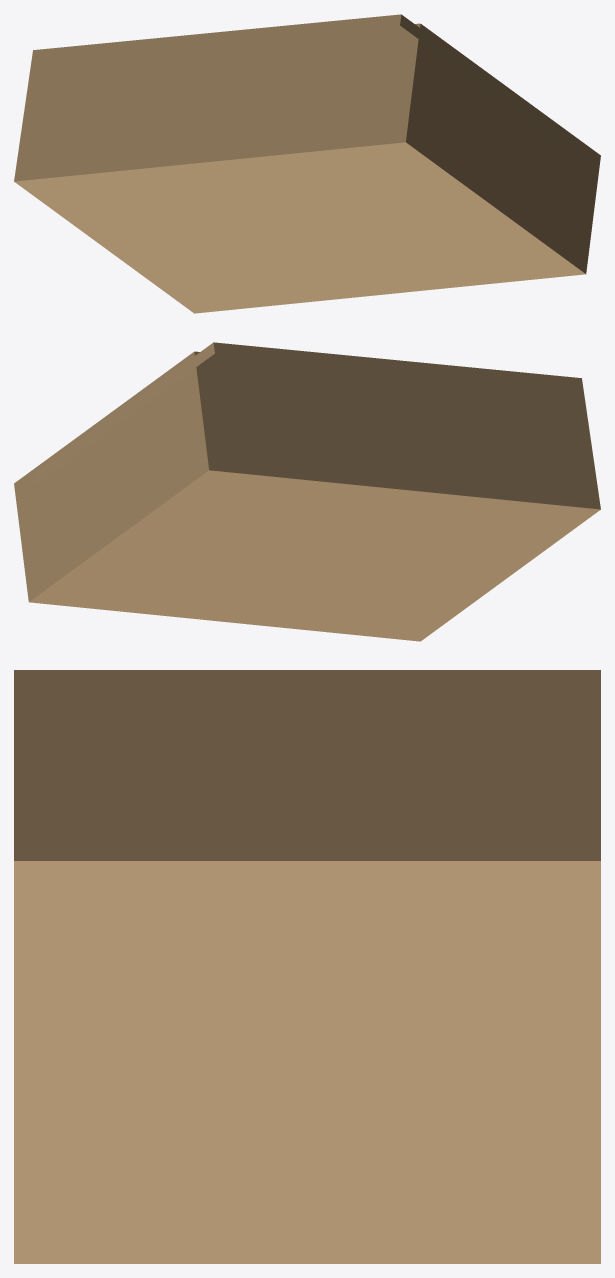
3 renders of one model, top to bottom at view 1: azimuth 30°, elevation 25°; view 2: azimuth 150°, elevation 25°; view 3: azimuth 270°, elevation 25°, orthographic. The views are drawn at different scales.
Visible parts, largest first — view 1: 0_0_1_3_2_2_1_2_1; view 2: 0_0_1_3_2_2_1_2_1; view 3: 0_0_1_3_2_2_1_2_1.
Part boxes in pixels (bbox=[...]): 0_0_1_3_2_2_1_2_1: bbox=[14, 14, 600, 313]; 0_0_1_3_2_2_1_2_1: bbox=[14, 342, 600, 641]; 0_0_1_3_2_2_1_2_1: bbox=[14, 670, 600, 1263].
Size of the model in its own units: 27.33 by 11.76 by 21.
